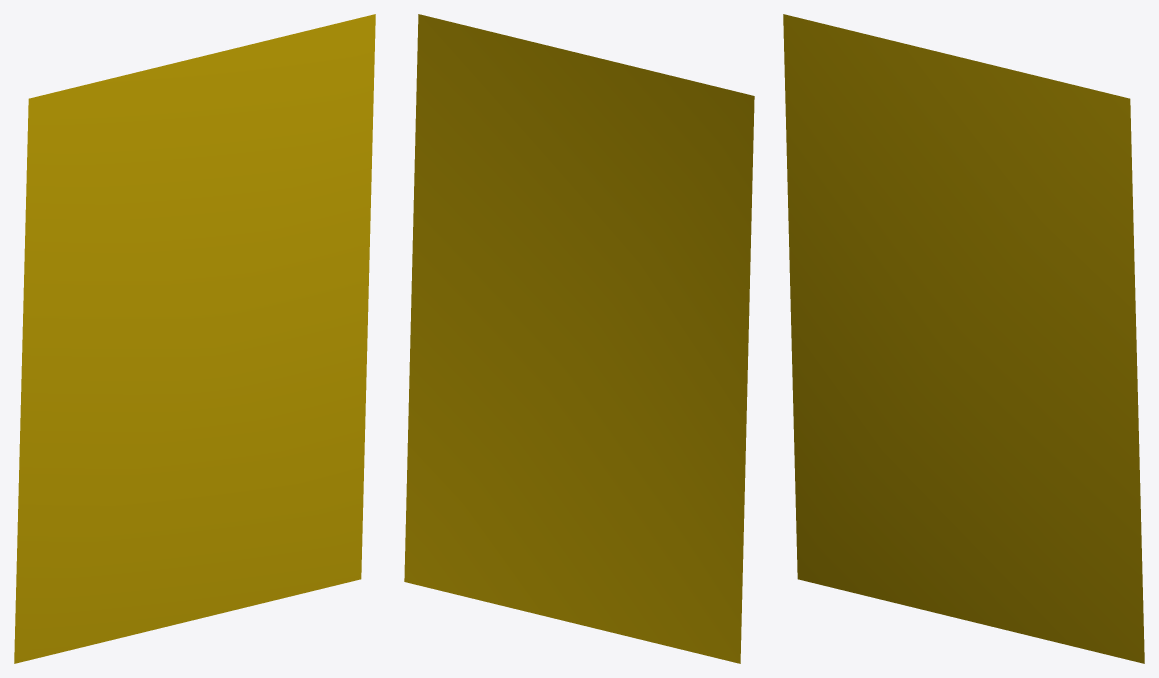
The model's file is SM_Leaf_01.fbx.
3 renders of one model, left to right at view 1: azimuth 30°, elevation 25°; view 2: azimuth 150°, elevation 25°; view 3: azimuth 330°, elevation 25°, orthographic. The views are drawn at different scales.
Parts seen in each view (by area): view 1: SM_Leaf_01; view 2: SM_Leaf_01; view 3: SM_Leaf_01.
Boxes of the visible parts, left/top/right/bottom form: SM_Leaf_01: left=14, top=14, right=375, bottom=663; SM_Leaf_01: left=404, top=14, right=754, bottom=663; SM_Leaf_01: left=783, top=14, right=1144, bottom=663.
Bounding box in the file's own units: 25.07 × 39.75 × 3.18.
